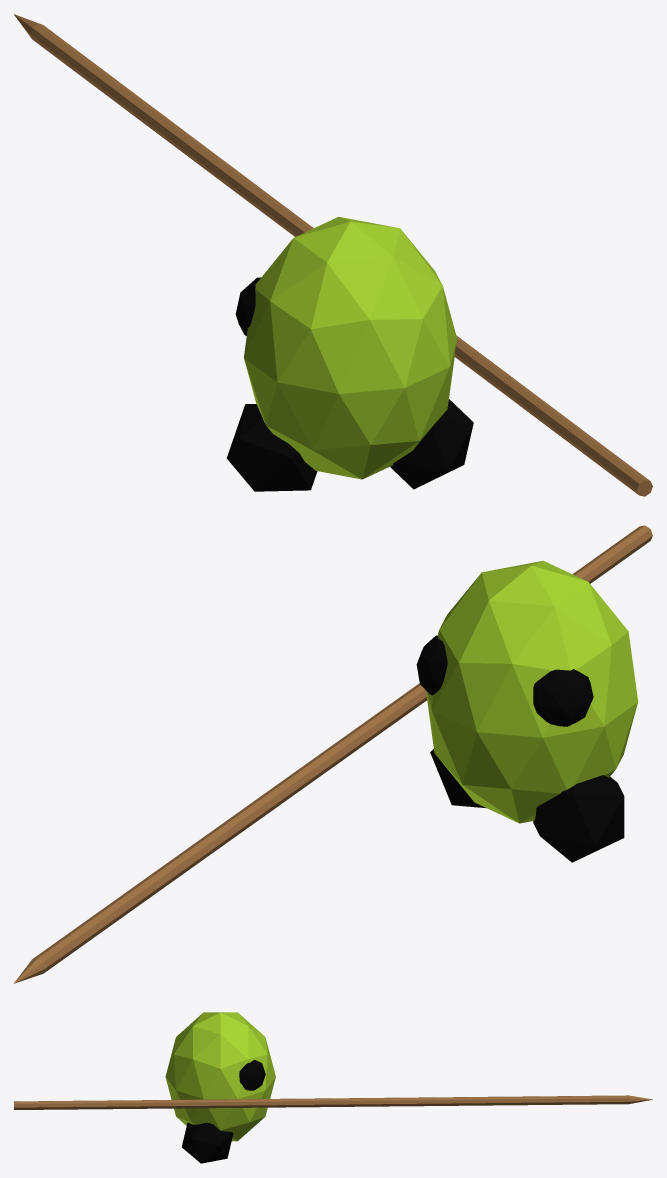
Rendered from walk.f0008.glb.
3 renders of one model, top to bottom at view 1: azimuth 30°, elevation 25°; view 2: azimuth 150°, elevation 25°; view 3: azimuth 270°, elevation 25°, orthographic. The views are drawn at different scales.
Parts seen in each view (by area): view 1: Body.001; view 2: Body.001; view 3: Body.001.
Part boxes in pixels (x1,y1,x2,y2): Body.001: (14,14,652,496); Body.001: (14,525,652,983); Body.001: (14,1012,652,1163).
Bounding box in the file's own units: 2.17 × 2.72 × 11.56.
1 material, 1 textured.
